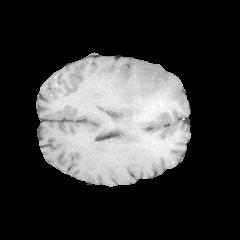glioma: (72, 61, 179, 142)
